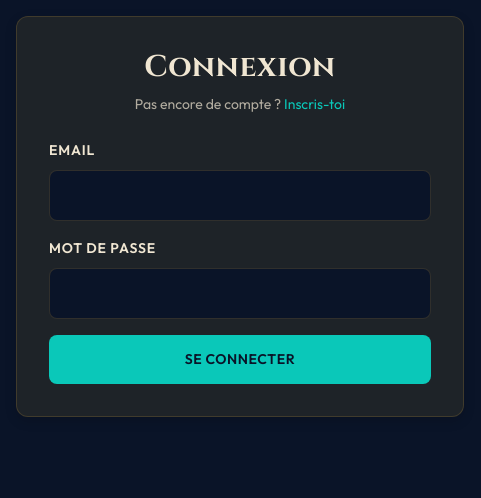
Test: LoginPage › shows a server error when login fails
Type "wrong@test.com" into the field labelled "Email" at (240, 196), box [49,170,431,221]
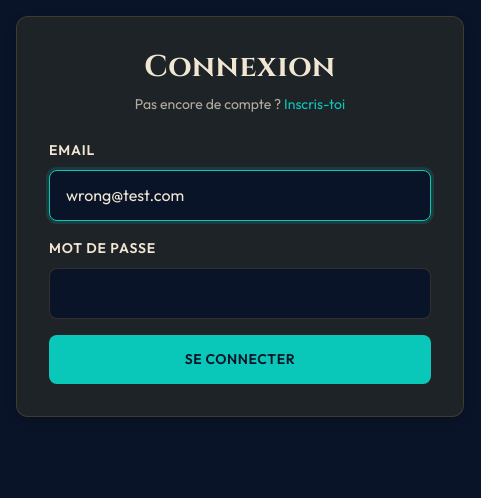
Type "badpass" into the password field labelled "Mot de passe" at (240, 294), box [49,268,431,319]
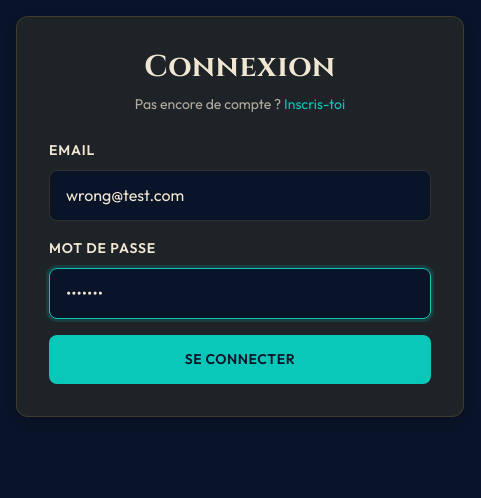
Click the button "Se connecter" at (240, 360), box [49,335,431,384]
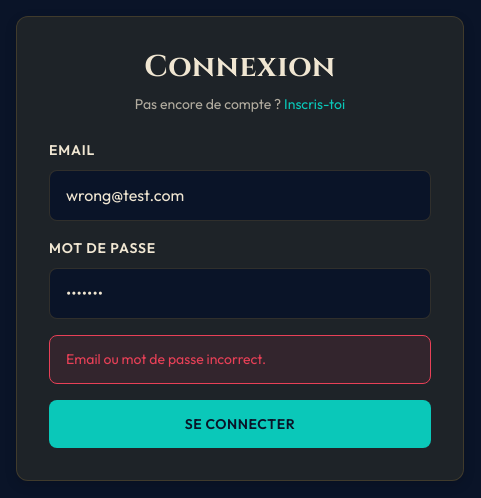
Result: the text "Email ou mot de passe incorrect." is shown at [49,335,431,384]
